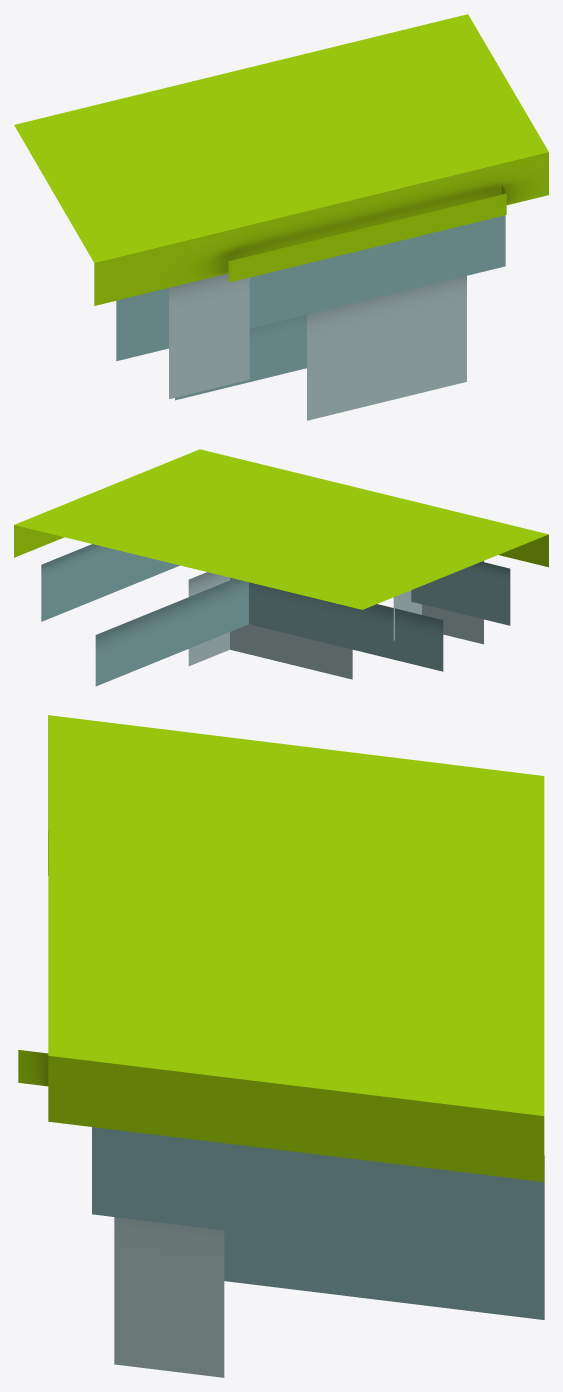
Rendered from Field_Type_03_05.FBX.
3 views of the same model, one above another, from view 1: azimuth 30°, elevation 25°; view 2: azimuth 150°, elevation 25°; view 3: azimuth 270°, elevation 25° (orthographic). The views are drawn at different scales.
Visible parts, largest first — view 1: Field_Type_03_05; view 2: Field_Type_03_05; view 3: Field_Type_03_05.
Part boxes in pixels (bbox=[...]): Field_Type_03_05: bbox=[14, 14, 548, 420]; Field_Type_03_05: bbox=[14, 449, 548, 686]; Field_Type_03_05: bbox=[18, 715, 544, 1377].
Size of the model in its own units: 20.65 by 8.5 by 11.45.
